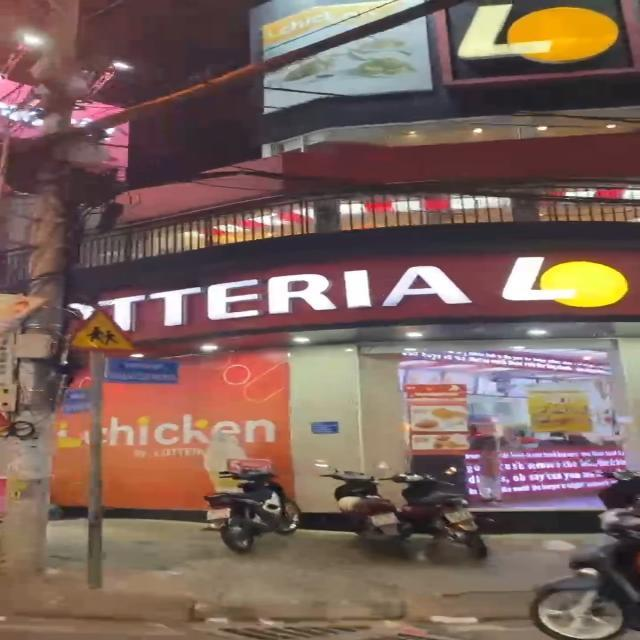225-chu-y-tre-em: (69, 306, 139, 358)
